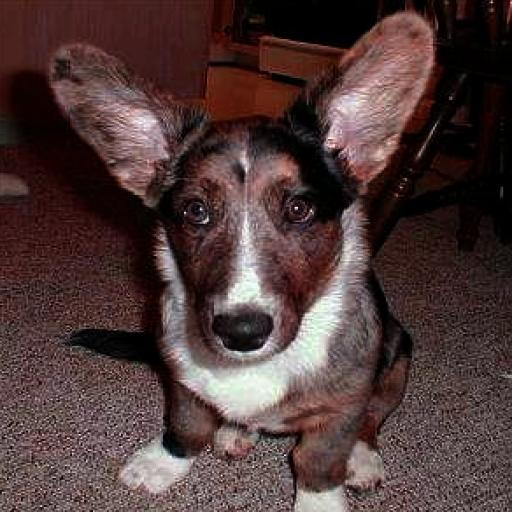dog_face: (58, 28, 433, 357)
